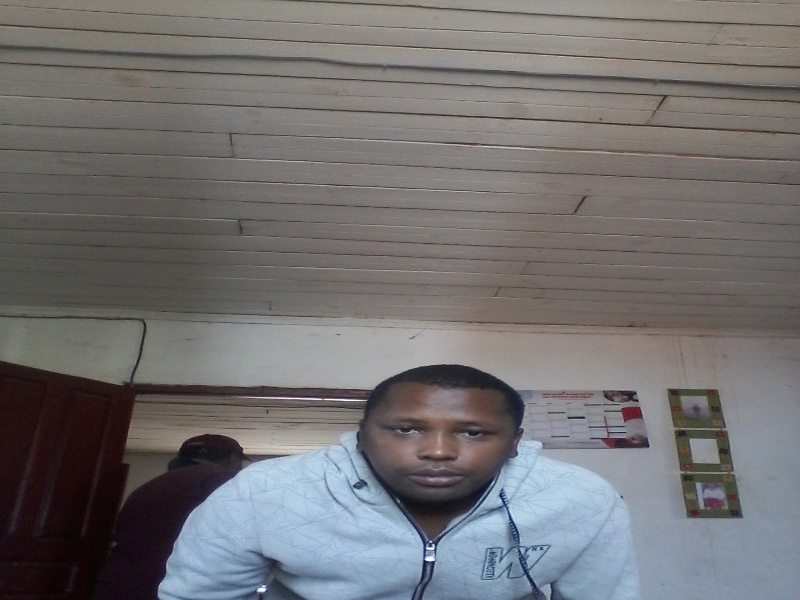TsisyArotava: (358, 362, 530, 513)
